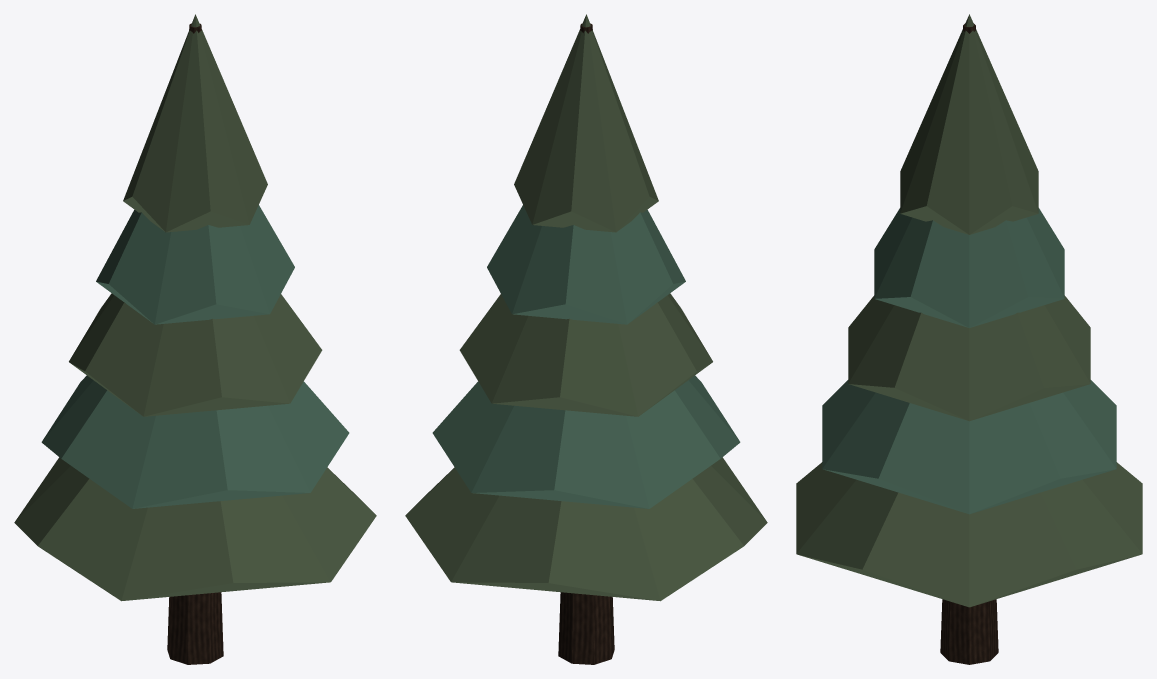
File: Tree_Pine_01.glb
3 renders of one model, left to right at view 1: azimuth 30°, elevation 25°; view 2: azimuth 150°, elevation 25°; view 3: azimuth 270°, elevation 25°, orthographic.
Parts seen in each view (by area): view 1: Tree_Pine_01; view 2: Tree_Pine_01; view 3: Tree_Pine_01.
Boxes of the visible parts, bbox=[...] form: Tree_Pine_01: bbox=[14, 14, 376, 664]; Tree_Pine_01: bbox=[405, 14, 767, 664]; Tree_Pine_01: bbox=[796, 14, 1142, 664].
Size of the model in its own units: 2 by 3.87 by 1.9.
Materials: 3 (1 with a texture image).
